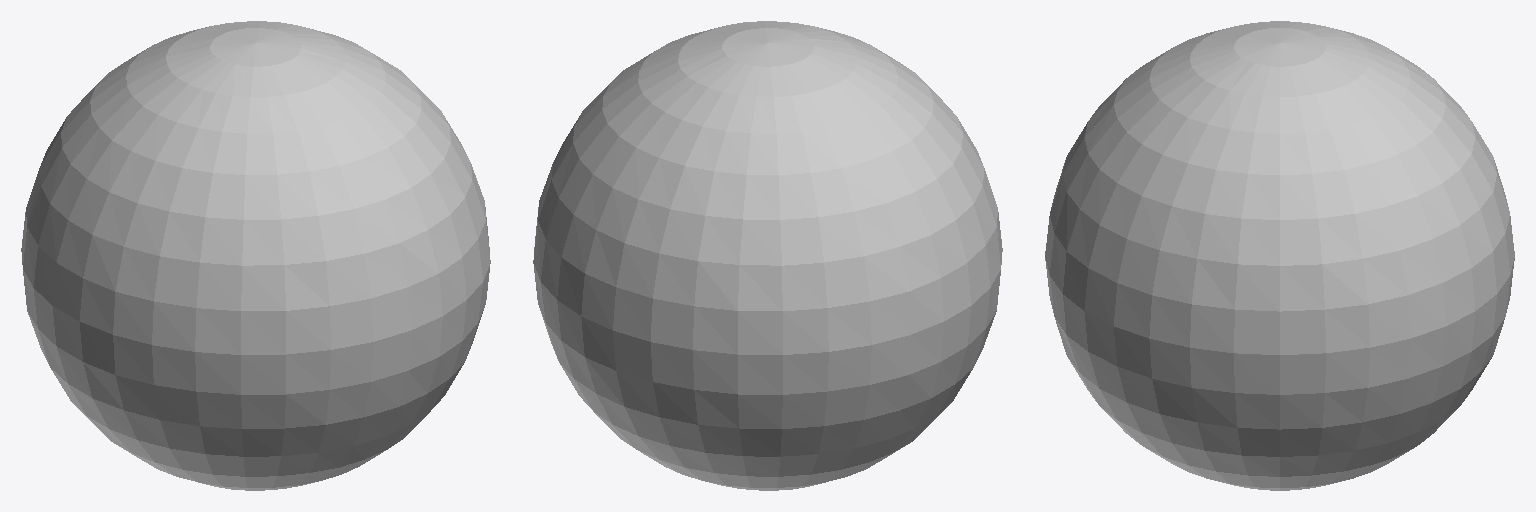
Rendered from Titleist.obj.
3 views of the same model, side by side, from view 1: azimuth 30°, elevation 25°; view 2: azimuth 150°, elevation 25°; view 3: azimuth 270°, elevation 25° (orthographic).
Parts seen in each view (by area): view 1: Sphere001; view 2: Sphere001; view 3: Sphere001.
Part boxes in pixels (bbox=[...]): Sphere001: bbox=[21, 21, 490, 490]; Sphere001: bbox=[533, 21, 1002, 490]; Sphere001: bbox=[1045, 21, 1514, 490].
Size of the model in its own units: 0.05 by 0.05 by 0.05.